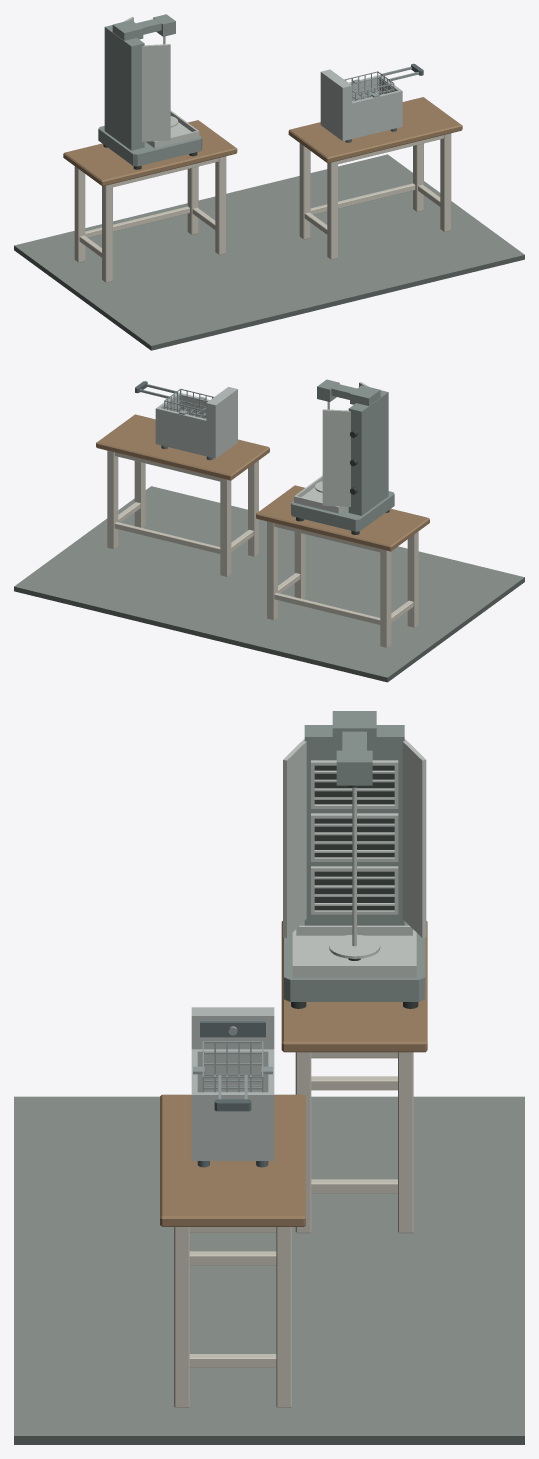
3 renders of one model, top to bottom at view 1: azimuth 30°, elevation 25°; view 2: azimuth 150°, elevation 25°; view 3: azimuth 270°, elevation 25°, orthographic. The views are drawn at different scales.
Parts seen in each view (by area): view 1: SCENE_ONLY__DisplayFloor, table_right__Complete work surface, roaster__WholeRearUprightColumn, table_left__Complete work surface, roaster__WholeAngledSideReflector_-1, fryer__WholeDeepEmptyWell, fryer__WholeTallRearControlHousing, roaster__WholeLowMachinePlinth, table_left__Worktable leg.002, table_right__Worktable leg.002, roaster__WholeUpperCantileverAndHousing, table_left__Worktable leg (+11 smaller); view 2: SCENE_ONLY__DisplayFloor, table_right__Complete work surface, roaster__WholeRearUprightColumn, table_left__Complete work surface, roaster__WholeAngledSideReflector_1, fryer__WholeDeepEmptyWell, fryer__WholeTallRearControlHousing, roaster__WholeLowMachinePlinth, table_left__Worktable leg.001, table_right__Worktable leg.001, table_right__Worktable leg.003, roaster__WholeUpperCantileverAndHousing (+11 smaller); view 3: SCENE_ONLY__DisplayFloor, table_right__Complete work surface, fryer__WholeDeepEmptyWell, table_left__Complete work surface, roaster__WholeRearUprightColumn, roaster__WholeEmptyFrontDripTray, roaster__WholeAngledSideReflector_1, roaster__WholeAngledSideReflector_-1, roaster__WholeLowMachinePlinth, roaster__WholeUpperCantileverAndHousing, table_left__Worktable leg.003, table_right__Worktable leg.002 (+16 smaller).
Part boxes in pixels (<box>): SCENE_ONLY__DisplayFloor: <box>14,154,524,350</box>; table_right__Complete work surface: <box>288,97,462,163</box>; roaster__WholeRearUprightColumn: <box>104,25,144,150</box>; table_left__Complete work surface: <box>63,120,237,186</box>; roaster__WholeAngledSideReflector_-1: <box>142,44,170,141</box>; fryer__WholeDeepEmptyWell: <box>349,75,402,138</box>; fryer__WholeTallRearControlHousing: <box>320,69,352,140</box>; roaster__WholeLowMachinePlinth: <box>98,126,202,166</box>; table_left__Worktable leg.002: <box>215,156,226,254</box>; table_right__Worktable leg.002: <box>440,133,451,231</box>; roaster__WholeUpperCantileverAndHousing: <box>112,14,175,40</box>; table_left__Worktable leg: <box>102,184,112,282</box>; SCENE_ONLY__DisplayFloor: <box>14,486,524,682</box>; table_right__Complete work surface: <box>96,414,269,480</box>; roaster__WholeRearUprightColumn: <box>348,390,388,515</box>; table_left__Complete work surface: <box>256,485,429,551</box>; roaster__WholeAngledSideReflector_1: <box>322,409,350,506</box>; fryer__WholeDeepEmptyWell: <box>155,392,209,456</box>; fryer__WholeTallRearControlHousing: <box>206,387,237,458</box>; roaster__WholeLowMachinePlinth: <box>291,491,394,531</box>; table_left__Worktable leg.001: <box>380,549,391,647</box>; table_right__Worktable leg.001: <box>220,478,231,576</box>; table_right__Worktable leg.003: <box>107,450,118,549</box>; roaster__WholeUpperCantileverAndHousing: <box>317,379,380,405</box>; SCENE_ONLY__DisplayFloor: <box>14,1096,524,1444</box>; table_right__Complete work surface: <box>160,1094,305,1226</box>; fryer__WholeDeepEmptyWell: <box>191,1049,274,1160</box>; table_left__Complete work surface: <box>281,921,427,1052</box>; roaster__WholeRearUprightColumn: <box>304,725,404,925</box>; roaster__WholeEmptyFrontDripTray: <box>292,925,416,977</box>; roaster__WholeAngledSideReflector_1: <box>402,739,426,937</box>; roaster__WholeAngledSideReflector_-1: <box>283,739,306,937</box>; roaster__WholeLowMachinePlinth: <box>284,921,425,1001</box>; roaster__WholeUpperCantileverAndHousing: <box>332,711,376,785</box>; table_left__Worktable leg.003: <box>398,1052,413,1233</box>; table_right__Worktable leg.002: <box>174,1227,189,1407</box>.
Size of the model in its own units: 3.3 by 2.03 by 2.1.
